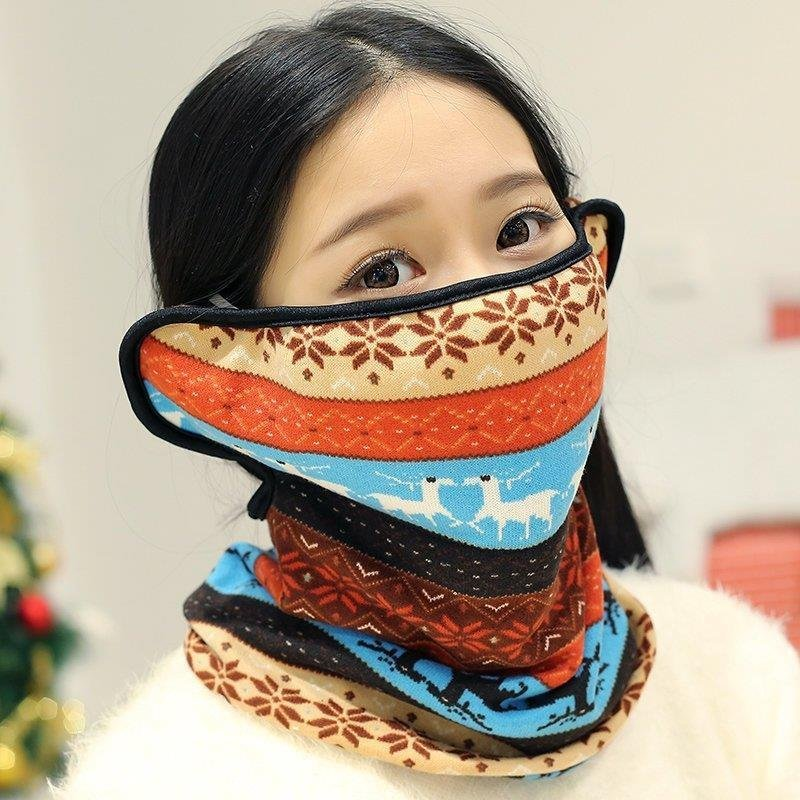face_mask: (280, 88, 588, 554)
